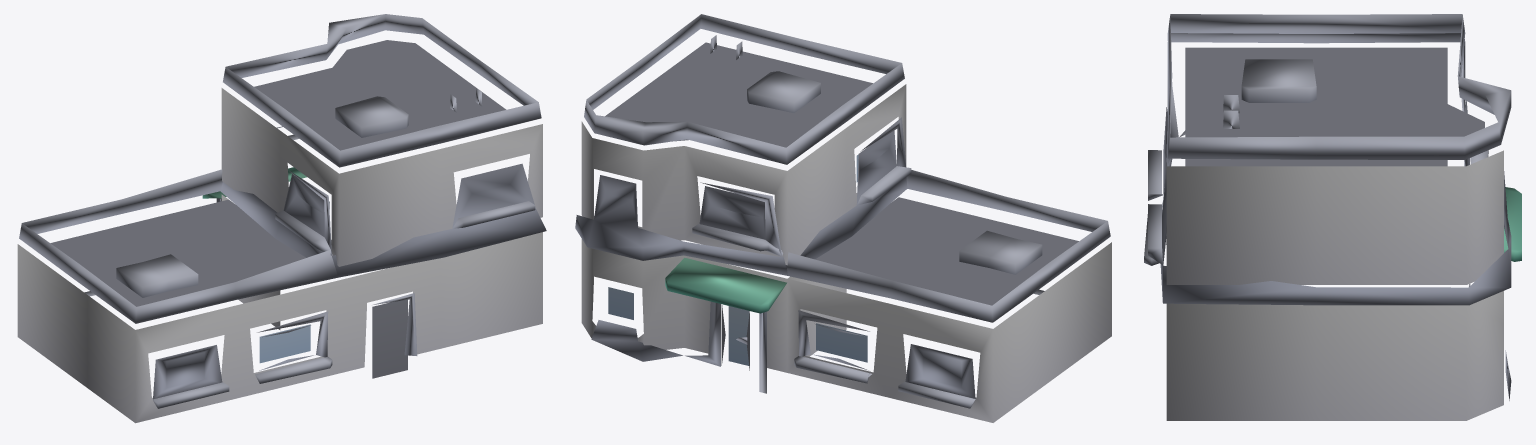
3 views of the same model, side by side, from view 1: azimuth 30°, elevation 25°; view 2: azimuth 150°, elevation 25°; view 3: azimuth 270°, elevation 25° (orthographic). The views are drawn at different scales.
Bounding box in the file's own units: 13.09 × 7.14 × 8.06.
